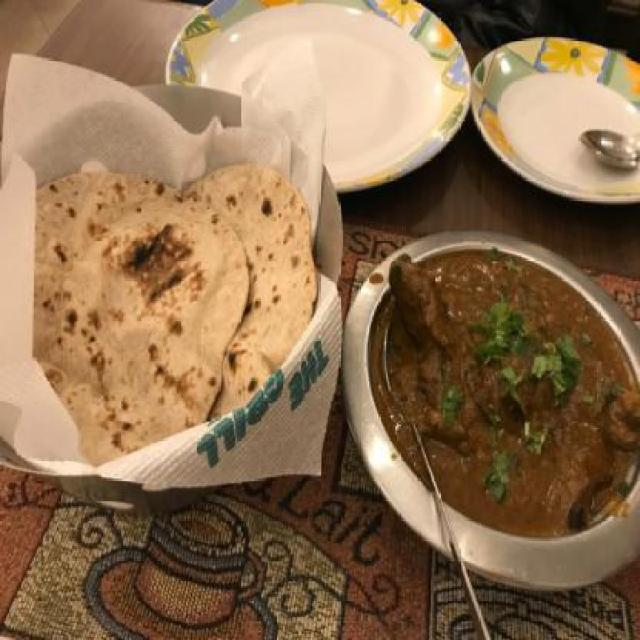chapati: (32, 172, 250, 466), (182, 163, 318, 422)
